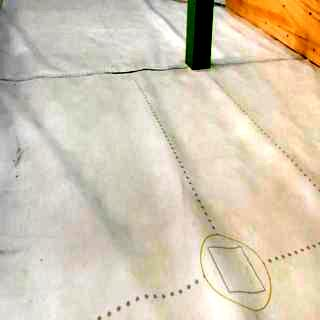greenbox: (185, 0, 212, 69)
